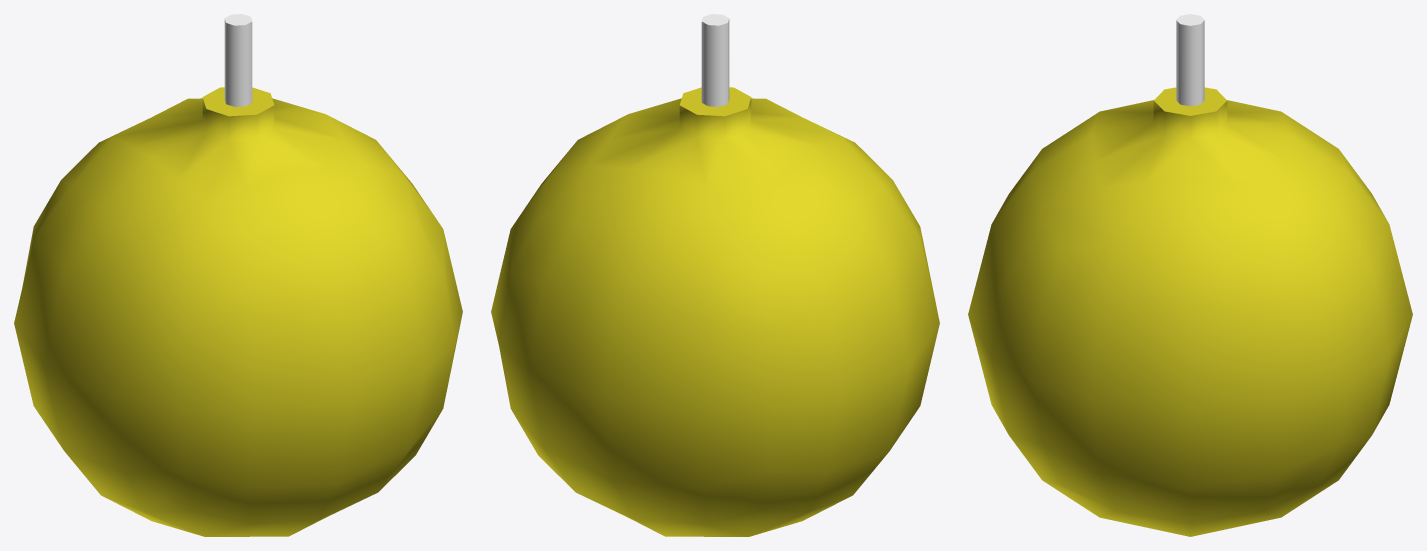
The model's file is Bomb.fbx.
3 views of the same model, side by side, from view 1: azimuth 30°, elevation 25°; view 2: azimuth 150°, elevation 25°; view 3: azimuth 270°, elevation 25° (orthographic).
Parts seen in each view (by area): view 1: Box001, Cylinder002; view 2: Box001, Cylinder002; view 3: Box001, Cylinder002.
Boxes of the visible parts, box(x1,y1,x2,y2) form: Box001: box(14, 87, 462, 536); Cylinder002: box(224, 14, 252, 106); Box001: box(491, 87, 939, 536); Cylinder002: box(701, 14, 729, 106); Box001: box(968, 87, 1412, 536); Cylinder002: box(1176, 14, 1204, 106).
Bounding box in the file's own units: 60 × 73.84 × 60.
